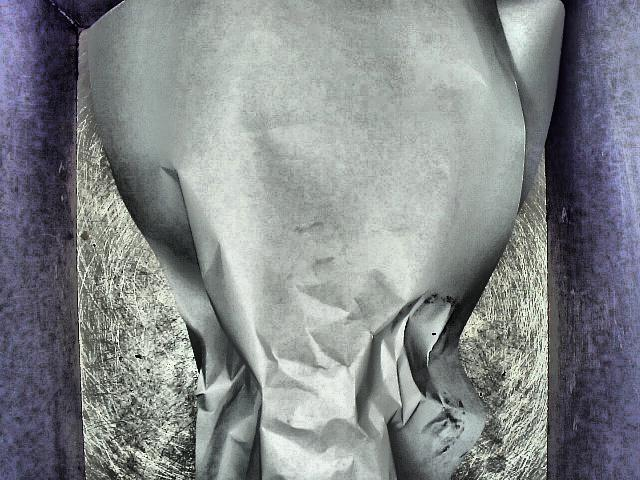Paper: (80, 0, 605, 478)
